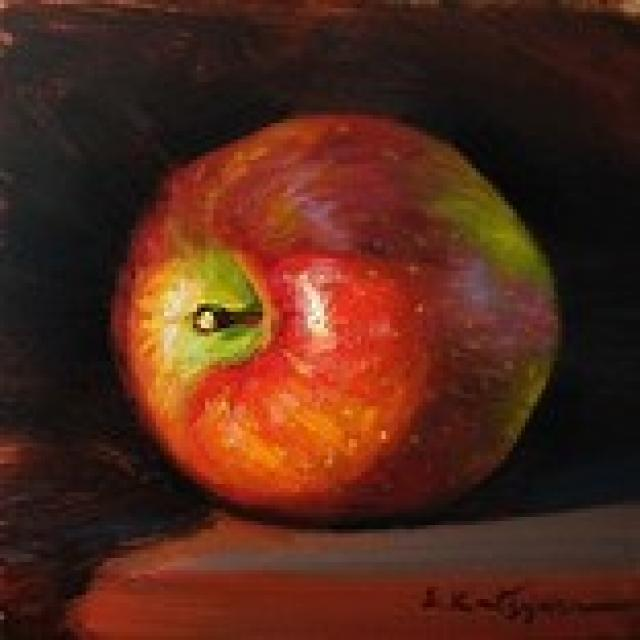Apple: (82, 108, 574, 520)
